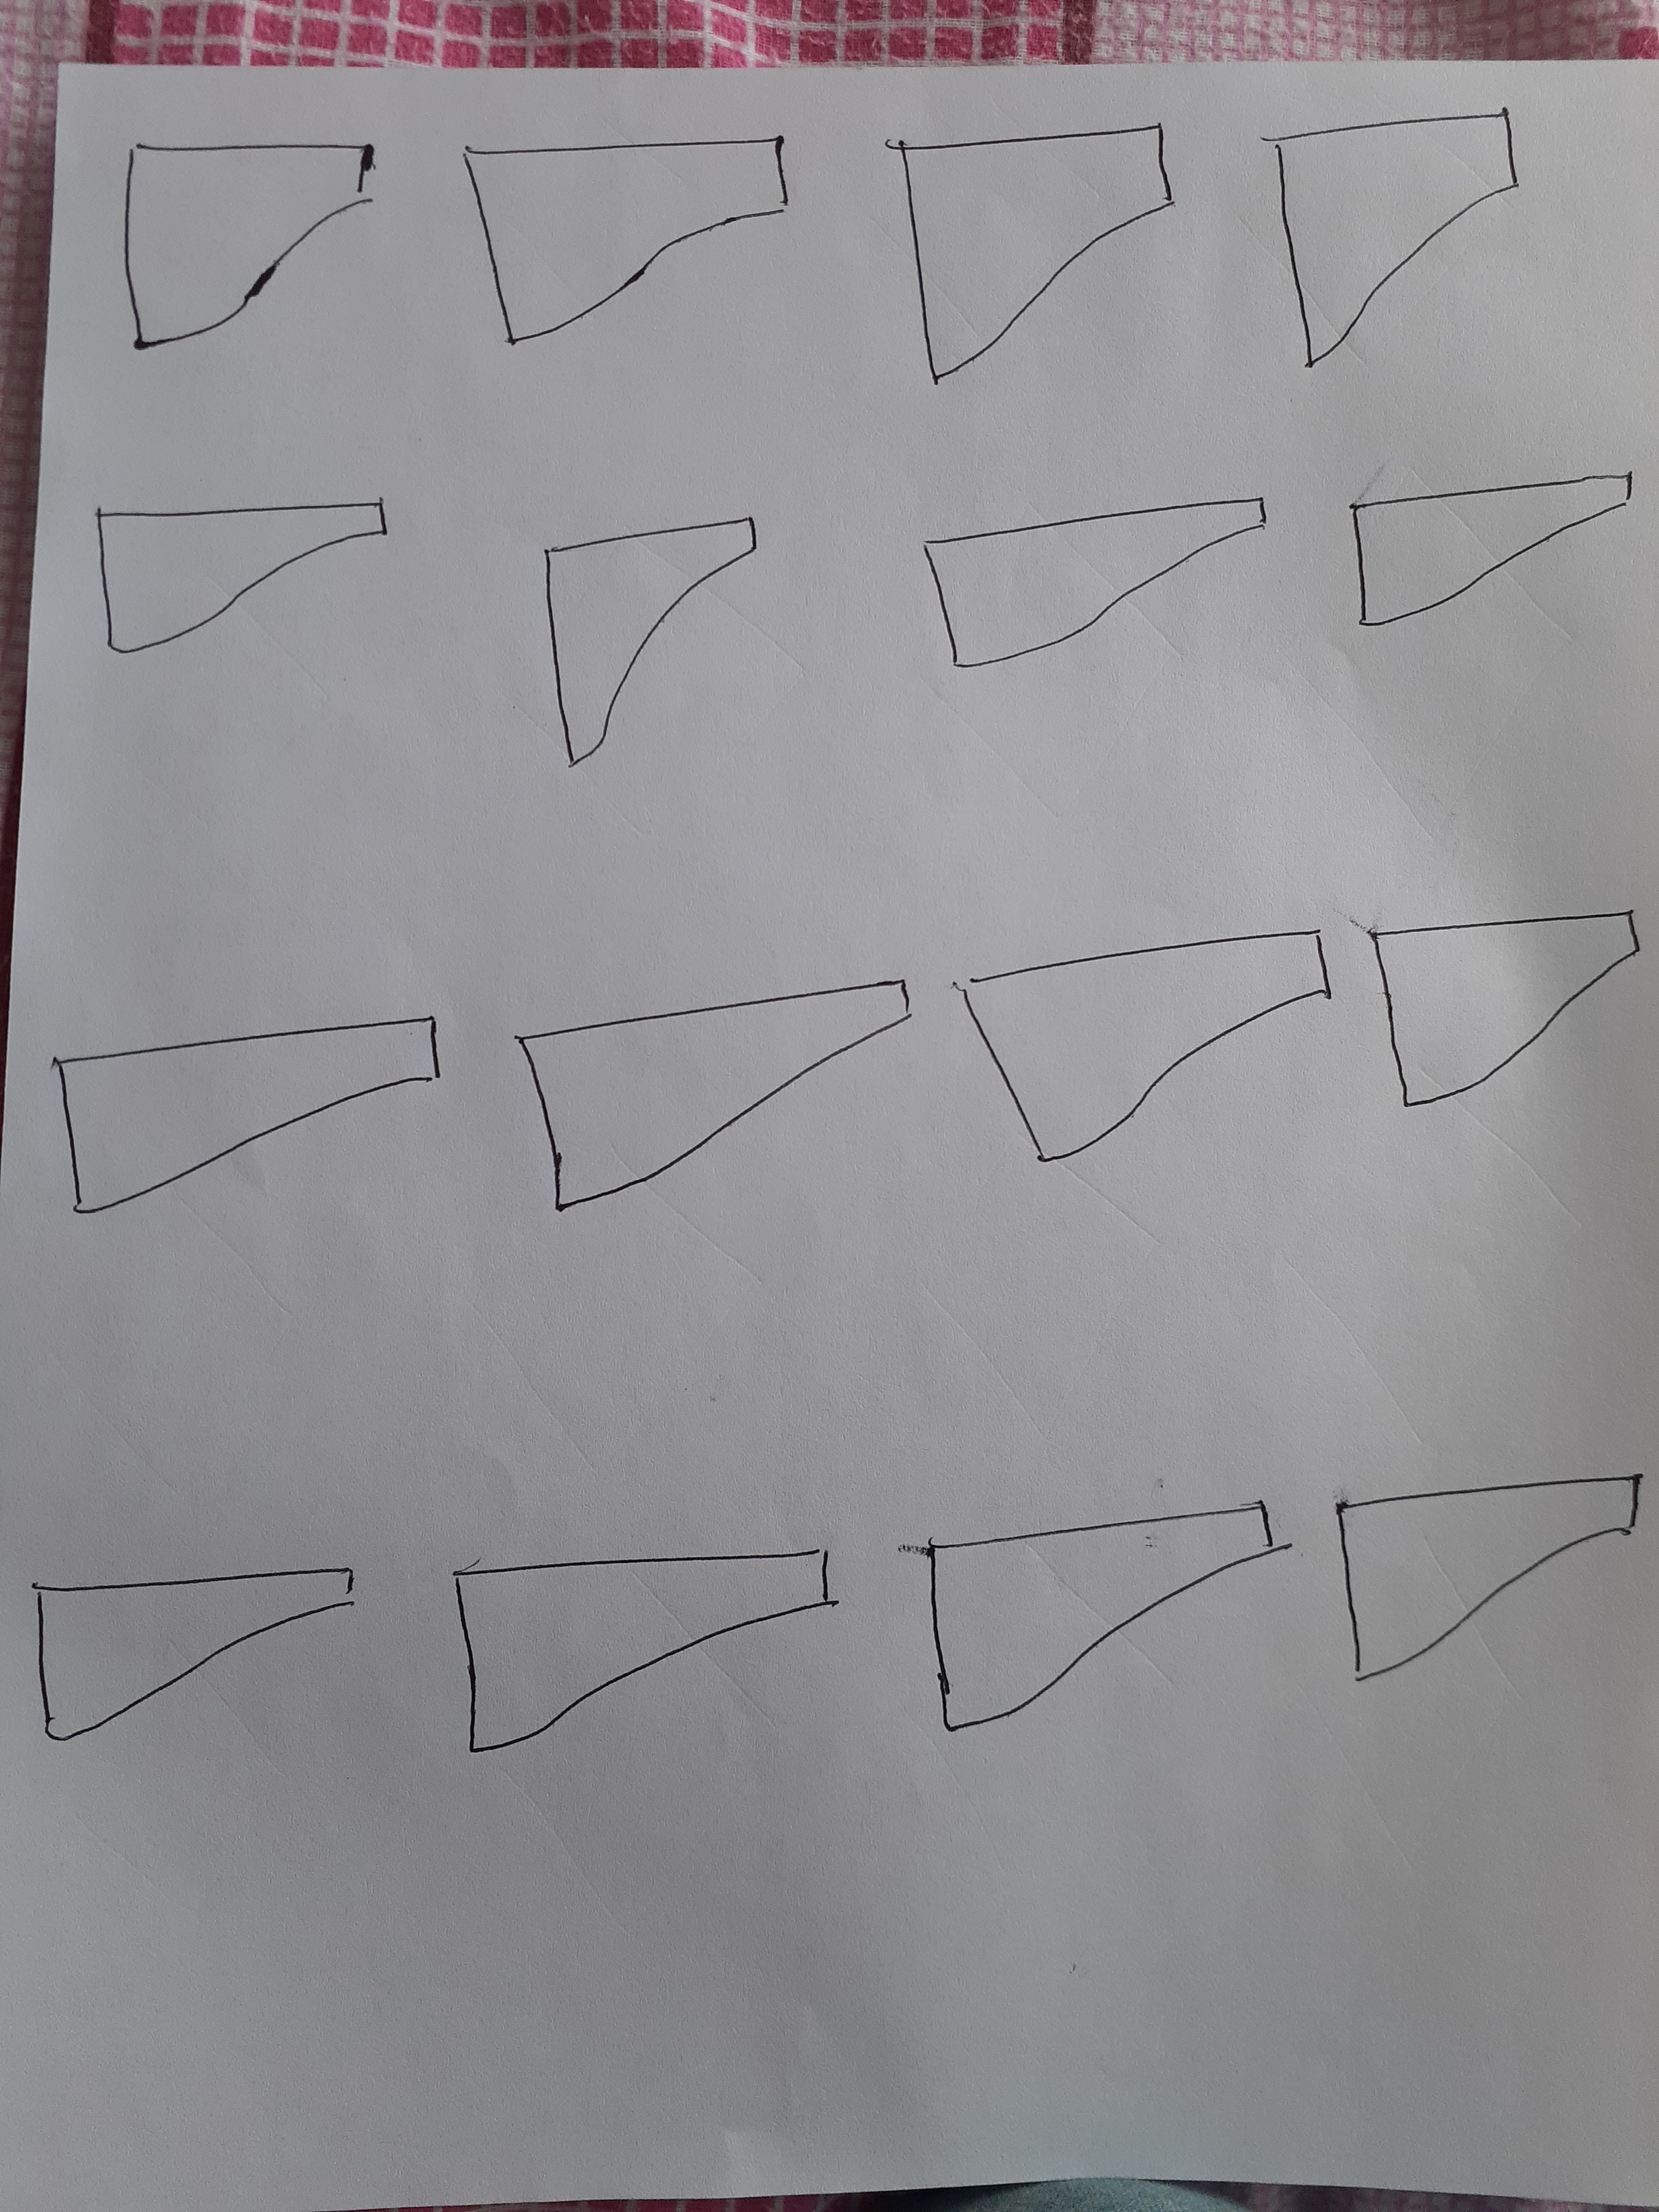print: (418, 1519, 842, 1844), (35, 981, 462, 1245), (484, 967, 922, 1224), (885, 1479, 1284, 1757), (950, 920, 1335, 1188), (451, 117, 807, 388), (24, 1540, 366, 1808), (864, 124, 1204, 385), (1251, 89, 1542, 378), (1359, 876, 1657, 1153), (1323, 1447, 1647, 1696), (509, 493, 784, 784), (61, 472, 415, 697), (892, 489, 1277, 693), (106, 106, 401, 371), (1335, 453, 1647, 679)
